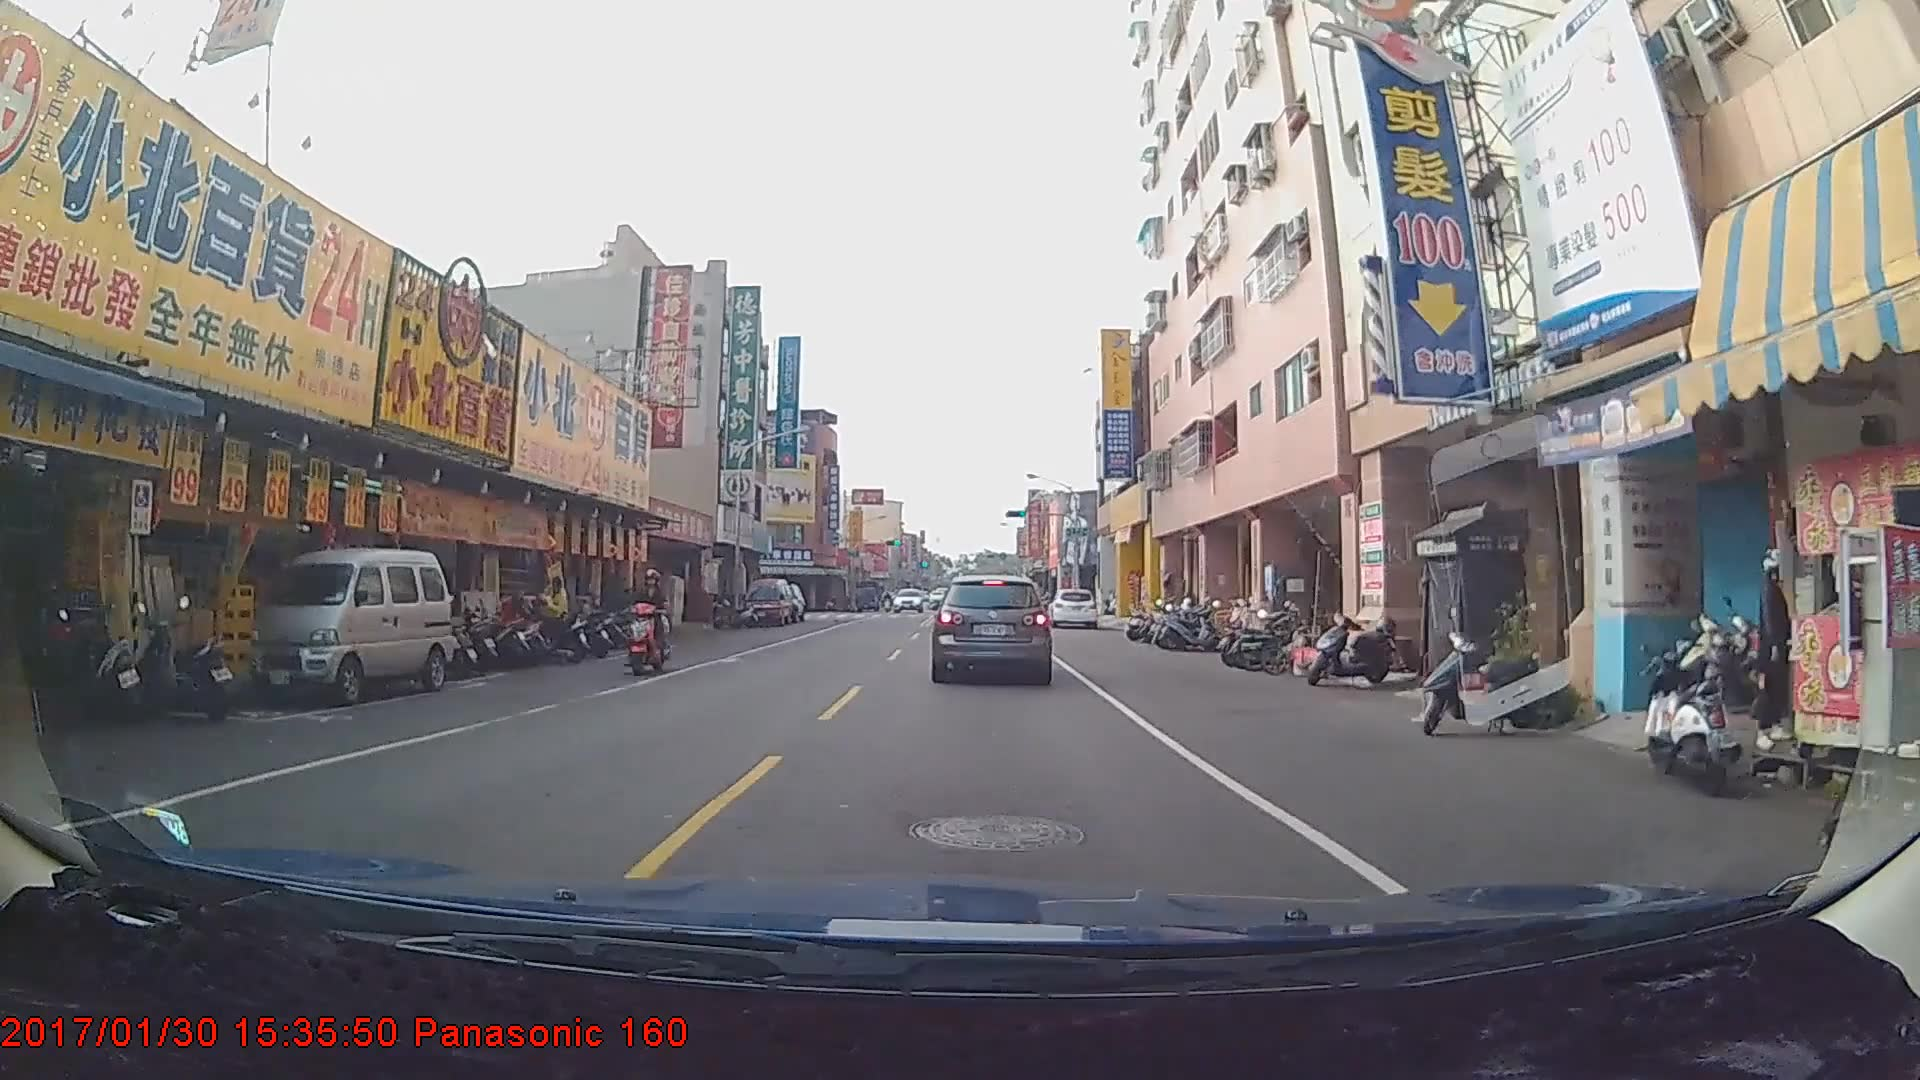pedestrian: (535, 573, 573, 658)
rider: (618, 567, 678, 675)
vehicle: (247, 551, 450, 700), (931, 573, 1051, 682), (741, 577, 792, 626), (1045, 588, 1097, 630), (891, 580, 921, 604)
